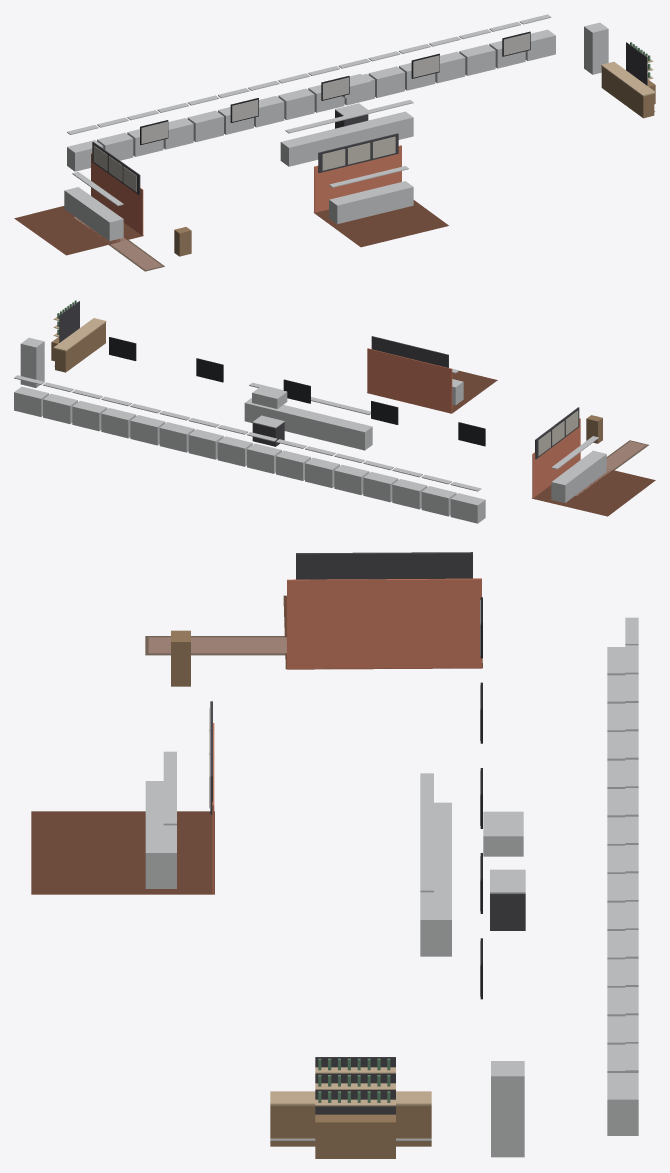
File: fine-s0.glb
3 renders of one model, top to bottom at view 1: azimuth 30°, elevation 25°; view 2: azimuth 150°, elevation 25°; view 3: azimuth 270°, elevation 25°, orthographic. The views are drawn at different scales.
Parts seen in each view (by area): view 1: soft-s0, fridge.000, kitchen-counter.016, kitchen-counter.004, kitchen-counter.007, kitchen-counter.013, kitchen-counter.023, kitchen-counter.010, range.000, kitchen-counter.024, kitchen-counter.022, kitchen-counter.015 (+23 smaller); view 2: soft-s0, range.000, fridge.000, kitchen-counter.000, kitchen-counter.016, kitchen-counter.009, kitchen-counter.010, kitchen-counter.013, kitchen-counter.003, kitchen-counter.012, kitchen-counter.001, kitchen-counter.004 (+20 smaller); view 3: soft-s0, back-bar.000, range.000, fridge.000, bar-counter.002, kitchen-counter.015, kitchen-counter.021, kitchen-counter.020, bar-counter.000, host-stand.000, kitchen-counter.012, kitchen-counter.001 (+15 smaller).
Part boxes in pixels (x1,y1,x2,y2): soft-s0: (14,31,530,271); fridge.000: (584,22,608,74); kitchen-counter.016: (280,124,316,166); kitchen-counter.004: (187,95,223,141); kitchen-counter.007: (278,73,314,119); kitchen-counter.013: (459,29,495,75); kitchen-counter.023: (329,178,364,224); kitchen-counter.010: (368,51,404,97); range.000: (335,74,370,128); kitchen-counter.024: (93,192,123,240); kitchen-counter.022: (353,172,389,218); kitchen-counter.015: (519,14,555,60); soft-s0: (109,336,655,516); range.000: (252,385,287,446); fridge.000: (20,337,44,387); kitchen-counter.000: (450,482,485,523); kitchen-counter.016: (337,405,372,450); kitchen-counter.009: (188,418,223,459); kitchen-counter.010: (159,411,194,452); kitchen-counter.013: (72,389,107,431); kitchen-counter.003: (363,460,398,502); kitchen-counter.012: (101,396,136,438); kitchen-counter.001: (421,474,456,516); kitchen-counter.004: (334,453,369,495); soft-s0: (31,552,482,999); back-bar.000: (315,1057,395,1158); range.000: (483,811,525,930); fridge.000: (491,1061,524,1157); bar-counter.002: (270,1091,315,1146); kitchen-counter.015: (607,1043,638,1135); kitchen-counter.021: (145,797,176,888); kitchen-counter.020: (420,864,451,956); bar-counter.000: (396,1091,431,1146); host-stand.000: (171,630,190,686); kitchen-counter.012: (607,958,638,1016); kitchen-counter.001: (607,646,638,703).
Size of the model in its own units: 29.77 by 2.88 by 13.55.
